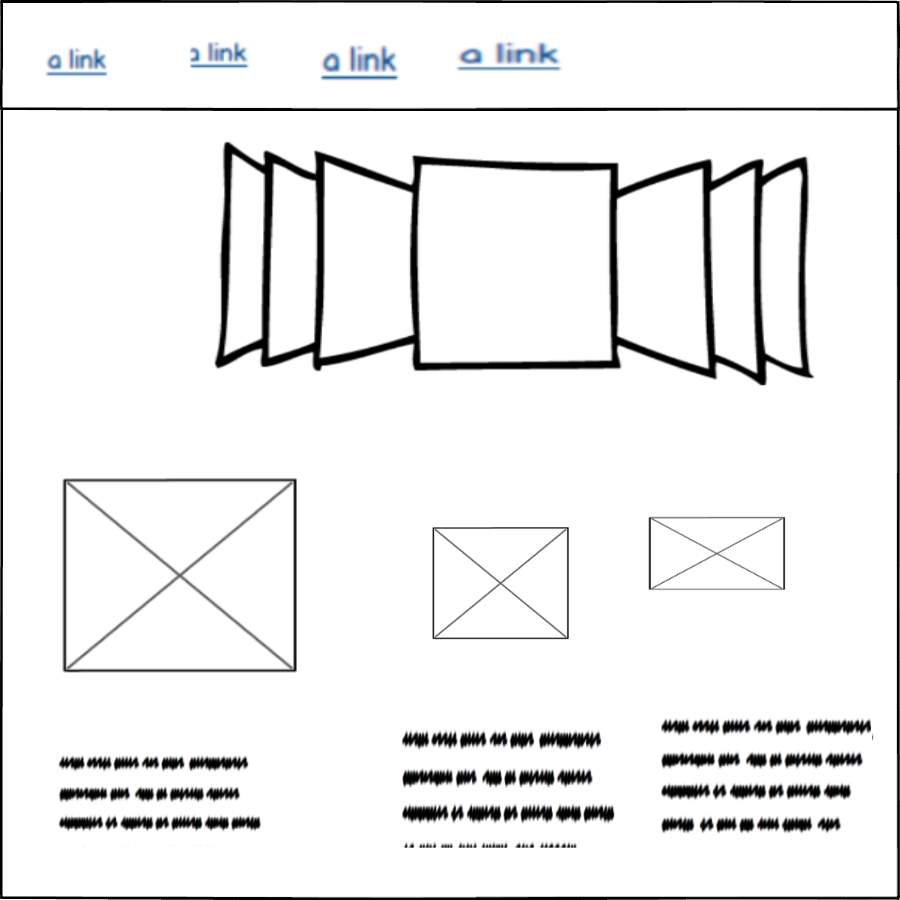image: (59, 471, 300, 680), (427, 519, 575, 638), (648, 512, 793, 595)
label: (659, 710, 879, 849), (392, 725, 619, 854), (53, 747, 267, 840)
navlink: (455, 38, 565, 73), (318, 44, 408, 86), (42, 43, 116, 86), (182, 38, 259, 71)
slideshow: (204, 132, 813, 395)
